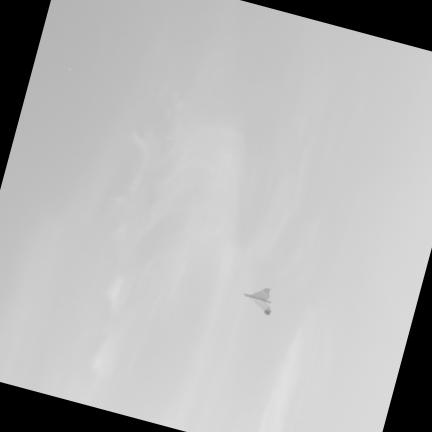Shahed: (244, 287, 270, 313)
